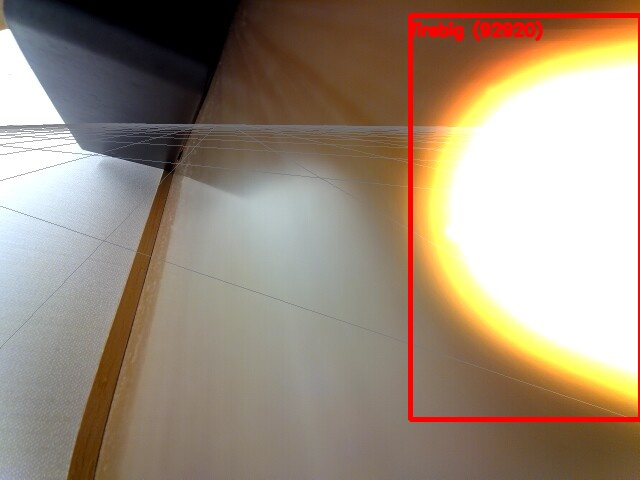firebig: (410, 15, 640, 419)
